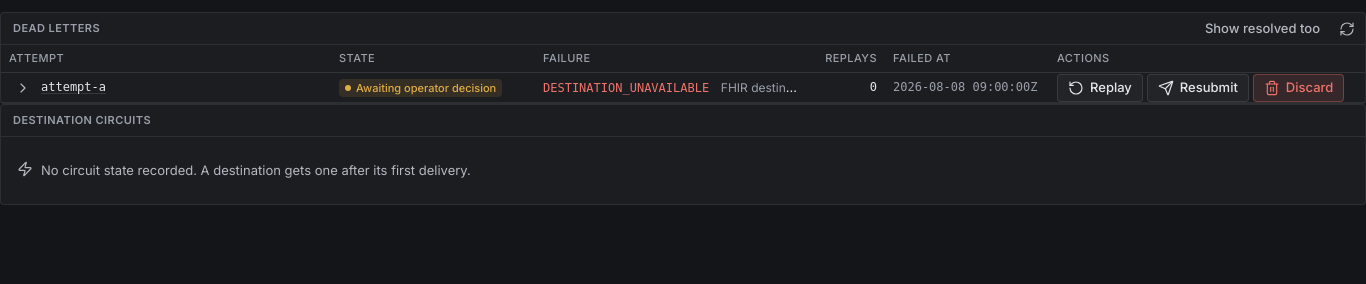
Scenario: DeliveryConsole › renders a Delivery block failure inline in its row without a second toast
The image size is (1366, 284).
Click the button named "Show delivery". click: (23, 88)
box: left=9, top=74, right=37, bottom=102
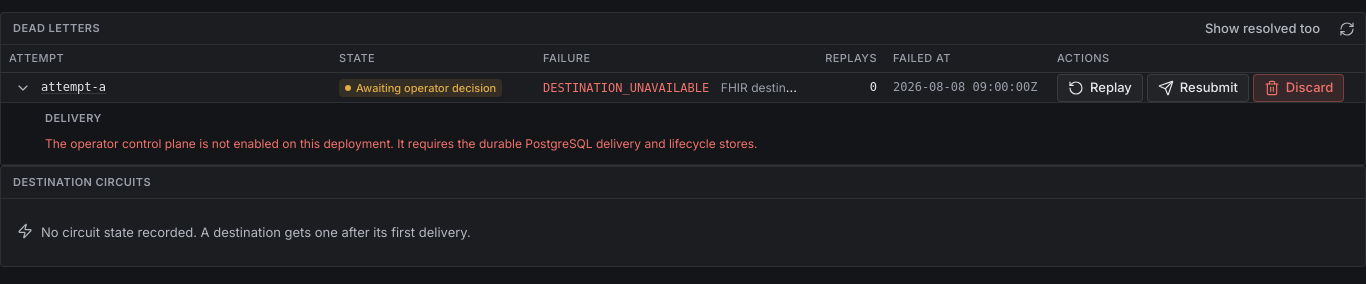
Check: the message shows "not enabled on this deployment", box left=45, top=136, right=758, bottom=151
